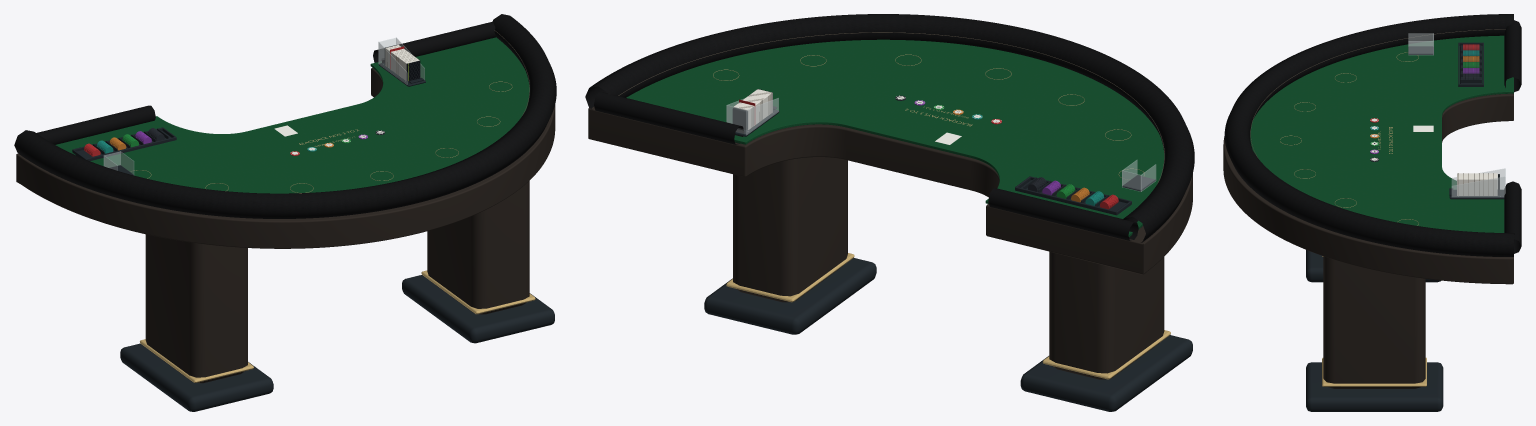
File: blackjack-table.glb
3 renders of one model, left to right at view 1: azimuth 30°, elevation 25°; view 2: azimuth 150°, elevation 25°; view 3: azimuth 270°, elevation 25°, orthographic. The views are drawn at different scales.
Parts seen in each view (by area): view 1: Table | emerald playing surface, Rail | padded leather, Table | walnut apron, Pedestal | -1, Pedestal | 1, Foot | -1, Foot | 1, Rail | rear -1, Rail | rear 1, Shoe_Pack, Shoe_Acrylic_Left, Pedestal gold collar | 1 (+1 smaller); view 2: Table | emerald playing surface, Rail | padded leather, Table | walnut apron, Pedestal | 1, Pedestal | -1, Foot | -1, Foot | 1, Rail | rear -1, Rail | rear 1, Shoe_Pack, Pedestal gold collar | -1, Pedestal gold collar | 1 (+2 smaller); view 3: Table | emerald playing surface, Rail | padded leather, Pedestal | 1, Table | walnut apron, Foot | 1, Rail | rear -1, Rail | rear 1, Shoe_Pack, Shoe_Acrylic_Right, Foot | -1, Pedestal gold collar | 1, ChipTray_Base (+4 smaller).
Part boxes in pixels (bbox=[...]): Table | emerald playing surface: bbox=[55, 37, 529, 193]; Rail | padded leather: bbox=[14, 14, 556, 218]; Table | walnut apron: bbox=[16, 68, 555, 248]; Pedestal | -1: bbox=[145, 234, 247, 383]; Pedestal | 1: bbox=[427, 181, 529, 314]; Foot | -1: bbox=[120, 343, 273, 411]; Foot | 1: bbox=[402, 275, 554, 343]; Rail | rear -1: bbox=[36, 105, 155, 144]; Rail | rear 1: bbox=[373, 21, 495, 62]; Shoe_Pack: bbox=[385, 45, 419, 80]; Shoe_Acrylic_Left: bbox=[378, 41, 407, 84]; Pedestal gold collar | 1: bbox=[421, 270, 535, 314]; Table | emerald playing surface: bbox=[626, 39, 1164, 236]; Rail | padded leather: bbox=[585, 14, 1194, 242]; Table | walnut apron: bbox=[588, 106, 1192, 274]; Pedestal | 1: bbox=[733, 157, 847, 302]; Pedestal | -1: bbox=[1049, 251, 1164, 379]; Foot | -1: bbox=[1020, 335, 1192, 411]; Foot | 1: bbox=[704, 258, 876, 334]; Rail | rear -1: bbox=[988, 188, 1138, 240]; Rail | rear 1: bbox=[594, 92, 744, 144]; Shoe_Pack: bbox=[733, 89, 772, 129]; Pedestal gold collar | -1: bbox=[1042, 330, 1170, 379]; Pedestal gold collar | 1: bbox=[726, 253, 854, 302]; Table | emerald playing surface: bbox=[1250, 35, 1513, 232]; Rail | padded leather: bbox=[1224, 14, 1514, 256]; Pedestal | 1: bbox=[1323, 256, 1425, 388]; Table | walnut apron: bbox=[1223, 93, 1513, 284]; Foot | 1: bbox=[1306, 362, 1443, 411]; Rail | rear -1: bbox=[1504, 20, 1521, 92]; Rail | rear 1: bbox=[1504, 181, 1521, 253]; Shoe_Pack: bbox=[1457, 173, 1497, 195]; Shoe_Acrylic_Right: bbox=[1451, 176, 1505, 197]; Foot | -1: bbox=[1306, 250, 1440, 282]; Pedestal gold collar | 1: bbox=[1322, 357, 1426, 386]; ChipTray_Base: bbox=[1460, 45, 1481, 83].
Size of the model in its own units: 2.34 by 1.01 by 1.28.
20 materials, 3 textured.
